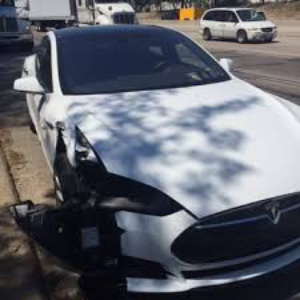bumper: (69, 206, 190, 294)
